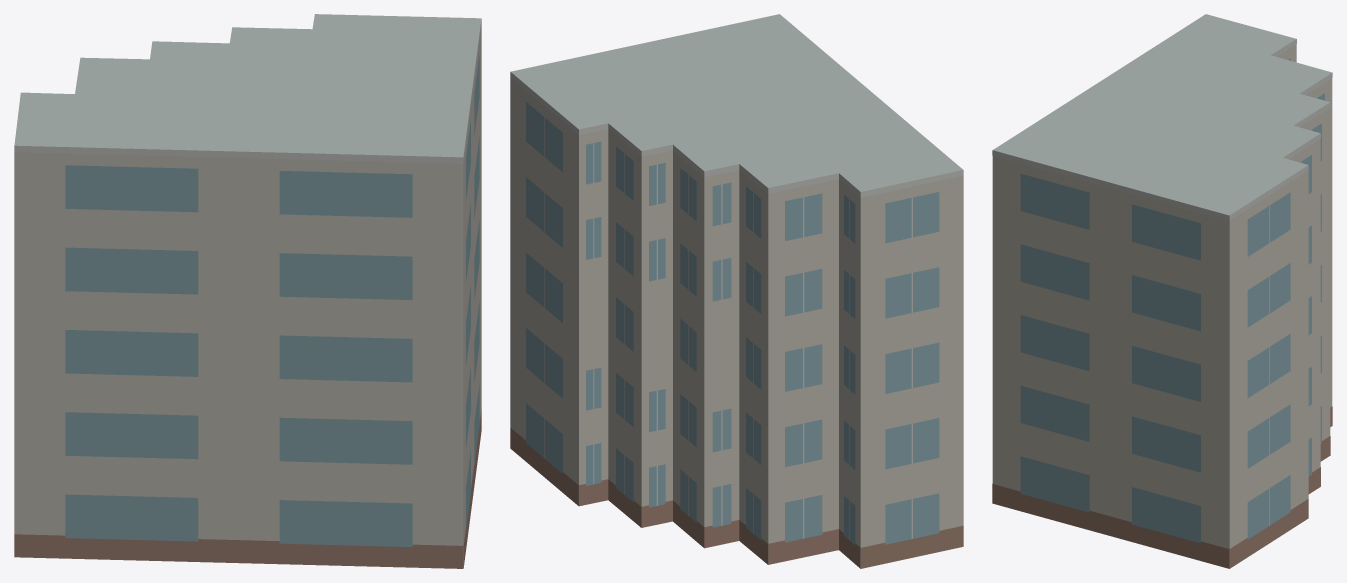
The model's file is survey-upis-32649188.glb.
The picture shows the model from 3 angles, left to right: view 1: azimuth 30°, elevation 25°; view 2: azimuth 150°, elevation 25°; view 3: azimuth 270°, elevation 25°; orthographic projection. The views are drawn at different scales.
Parts seen in each view (by area): view 1: survey-upis-32649188.tmp; view 2: survey-upis-32649188.tmp; view 3: survey-upis-32649188.tmp.
Boxes of the visible parts, x1=… form: survey-upis-32649188.tmp: x1=14, y1=14, x2=481, y2=568; survey-upis-32649188.tmp: x1=510, y1=14, x2=963, y2=568; survey-upis-32649188.tmp: x1=992, y1=14, x2=1332, y2=568.
Size of the model in its own units: 19.4 by 15.85 by 13.83.
